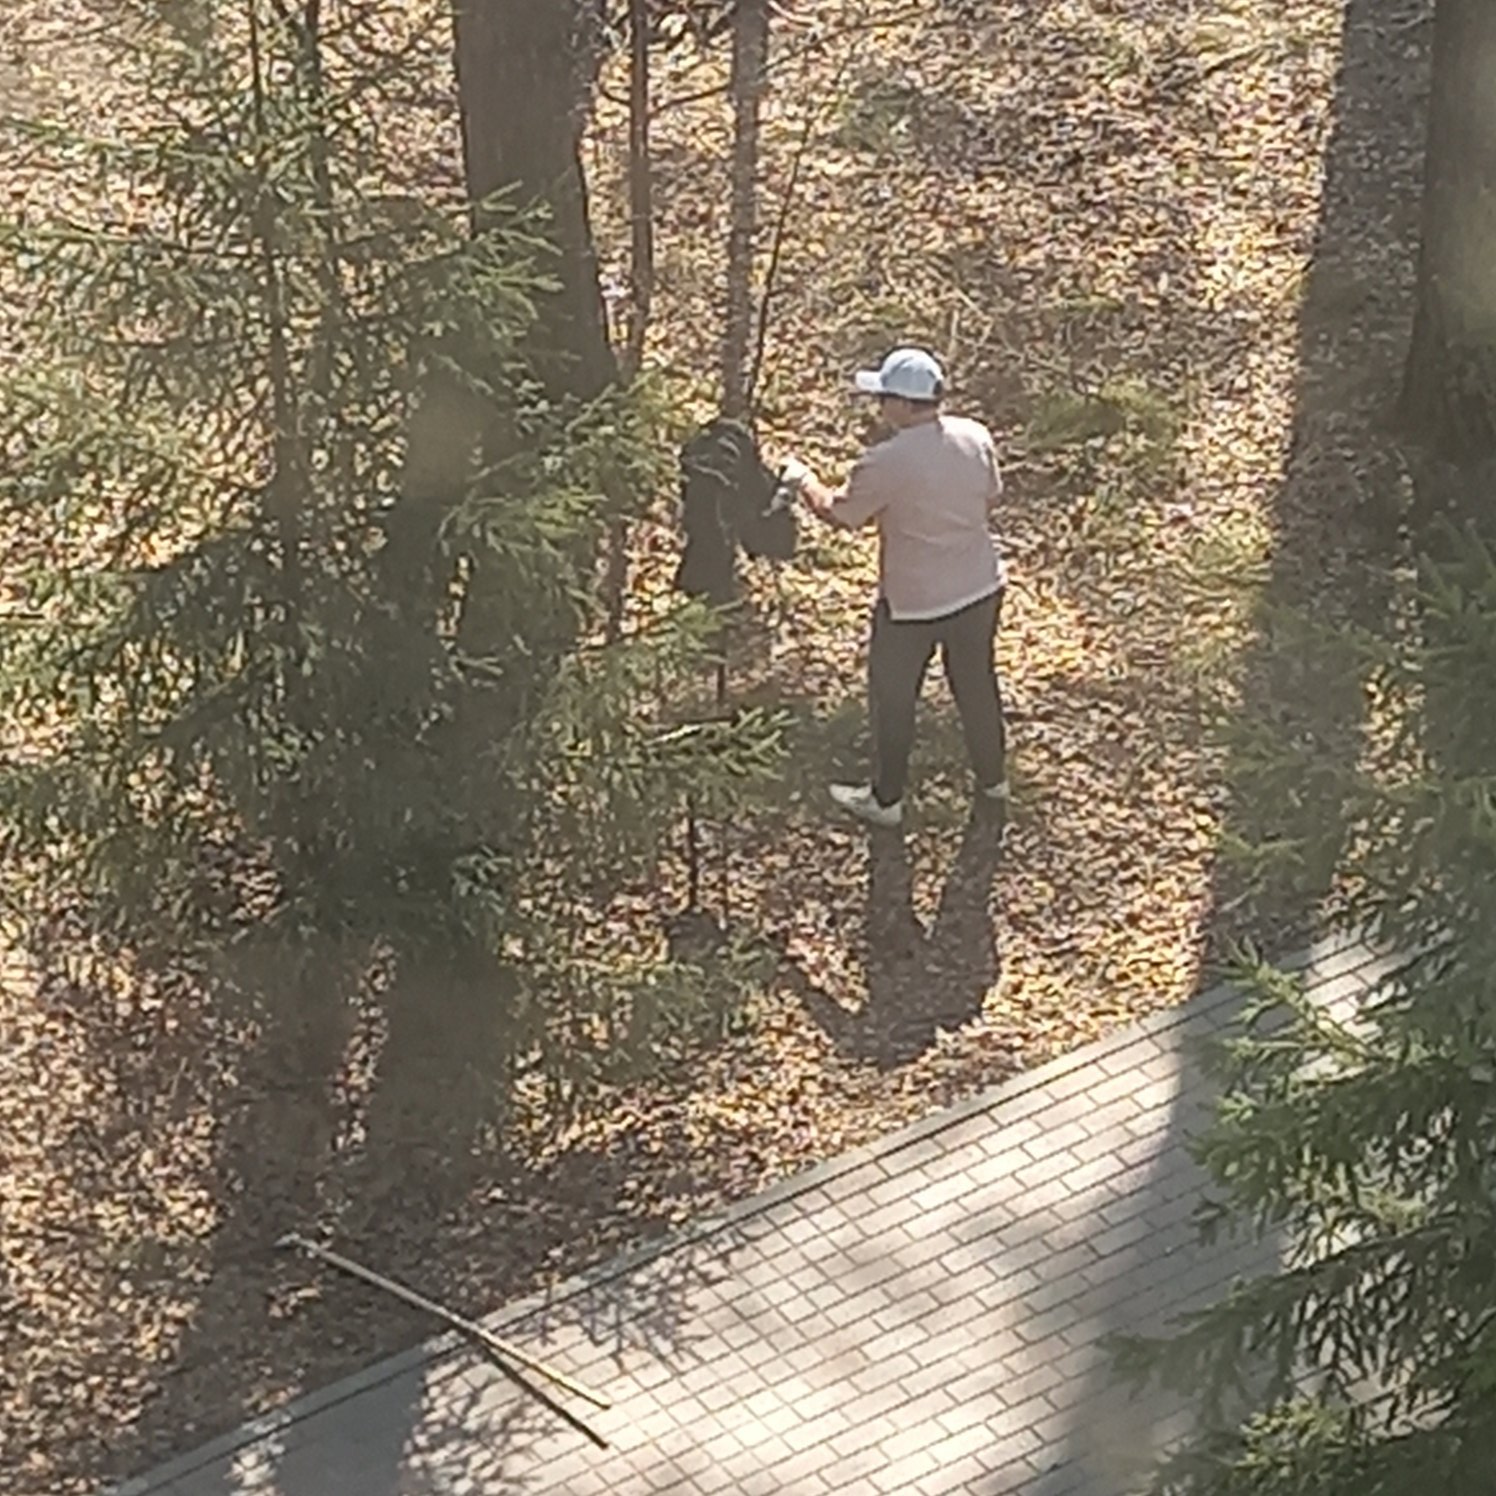person: (771, 341, 1019, 824)
